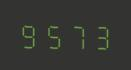five: (41, 19, 63, 49)
nine: (18, 19, 40, 49)
seven: (64, 19, 86, 50)
three: (87, 20, 109, 50)
